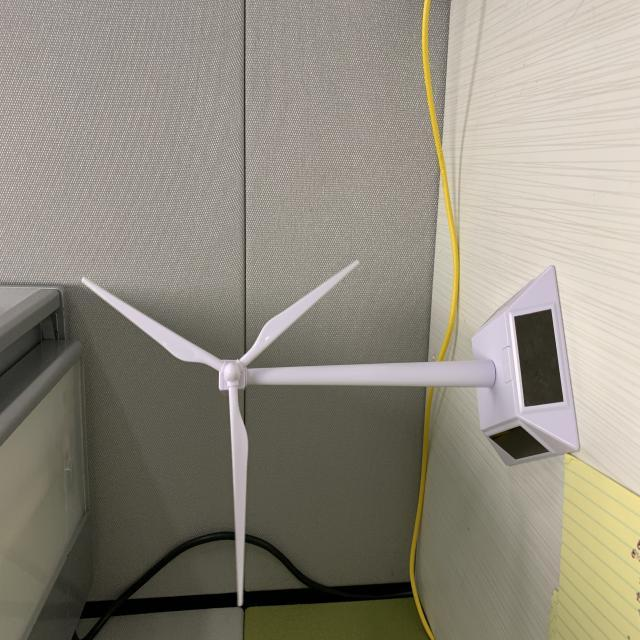solid-blade: (81, 278, 222, 369), (240, 260, 359, 365), (229, 386, 249, 606)
